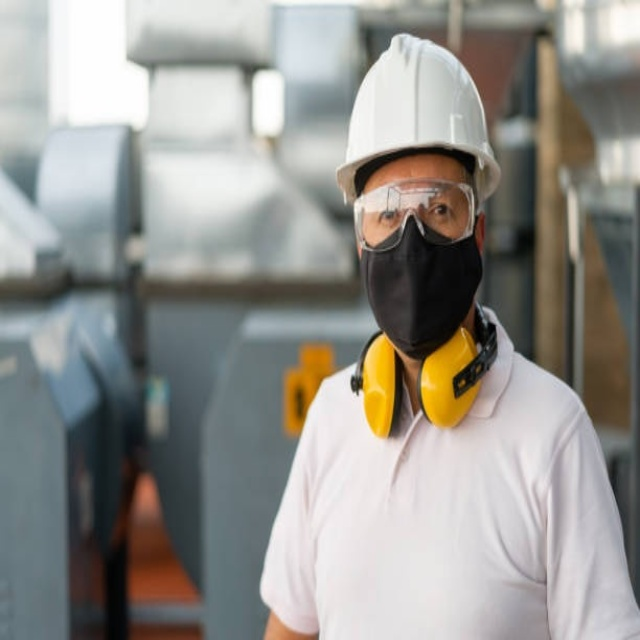Gafas: (349, 176, 478, 251)
Mascara: (359, 203, 485, 353)
